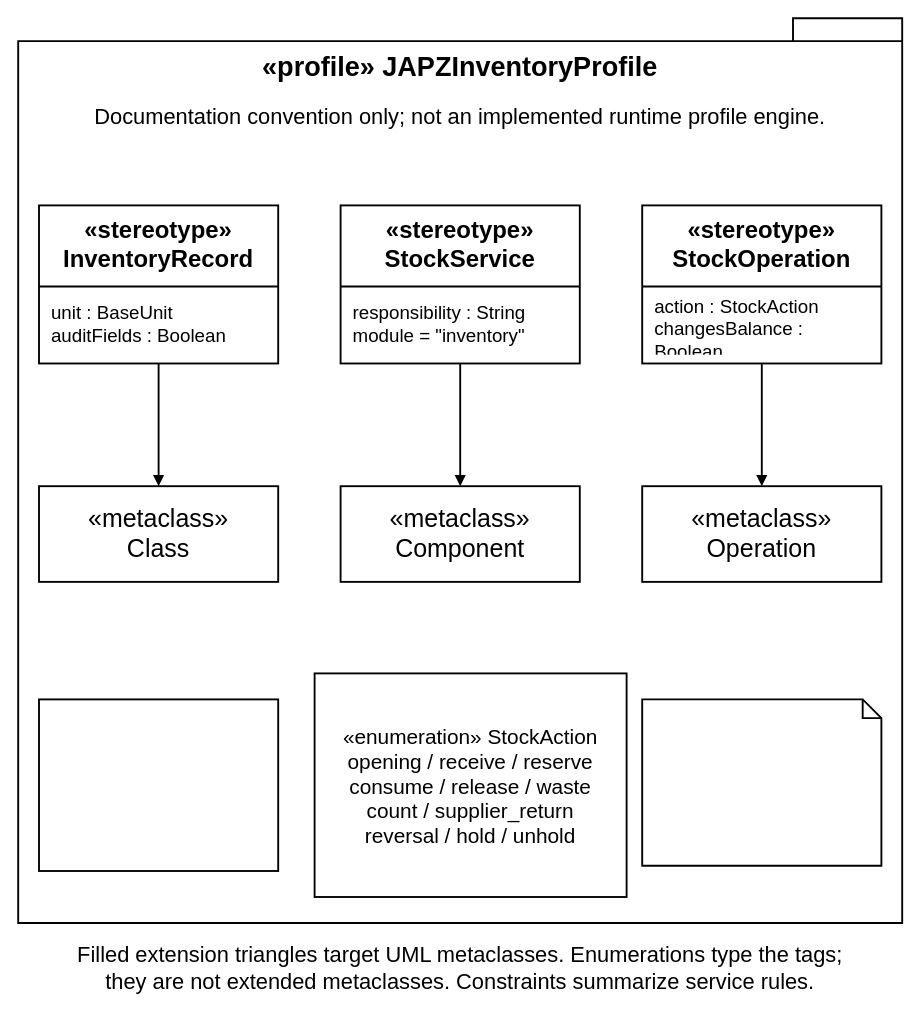
The diagram is 921 pixels wide and 1015 high, and some of its shapes have lost their labels. The shapes that lost their labels are listed below. From the top down, each one's box as (x1, y1, x2, y2) in pixels, then its label:
(38, 698, 279, 871): «enumeration» BaseUnit g ml pcs
(641, 698, 882, 866): «constraint» No negative stock Protect reservations Append movement history
